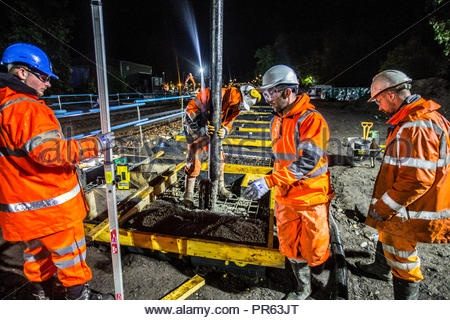blue: (3, 42, 53, 94)
white: (260, 62, 301, 110), (370, 69, 414, 113), (237, 84, 259, 109)
